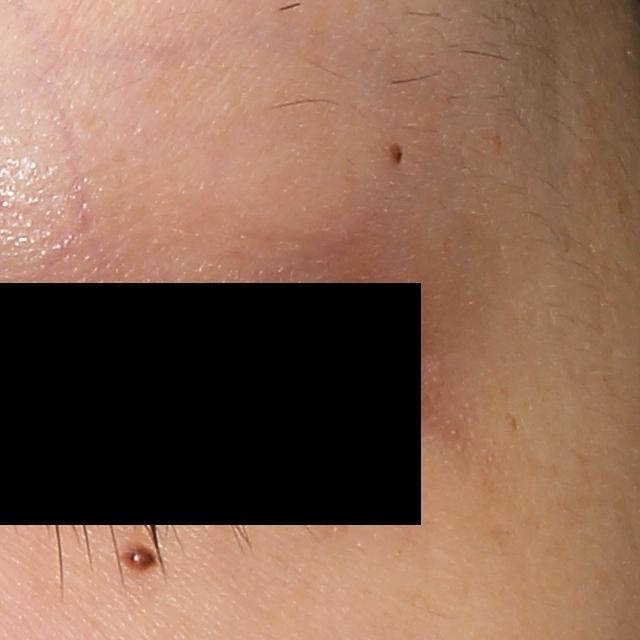melasma: (502, 410, 520, 434)
nevus: (121, 542, 159, 572), (387, 141, 406, 165)
